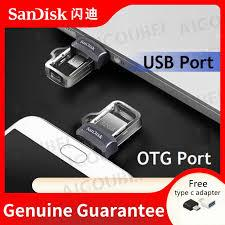Flash-drive: (75, 93, 161, 151), (37, 33, 114, 90)
